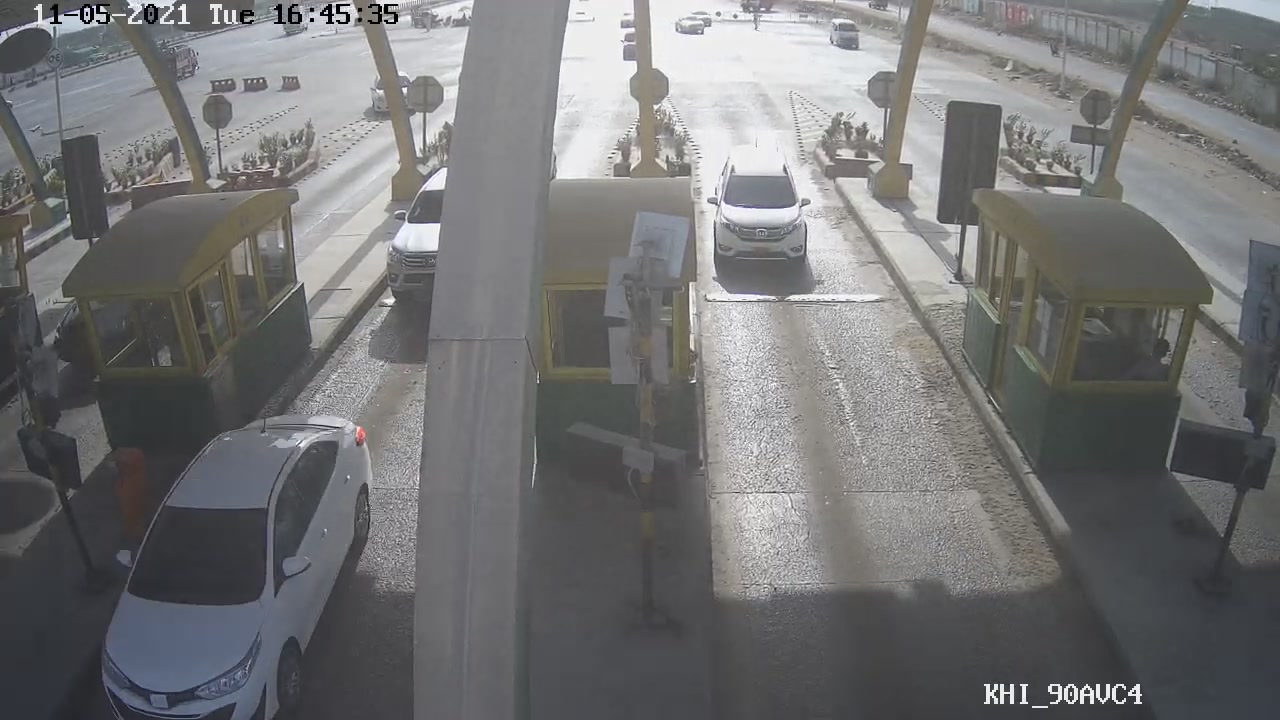F1: (704, 145, 814, 276)
